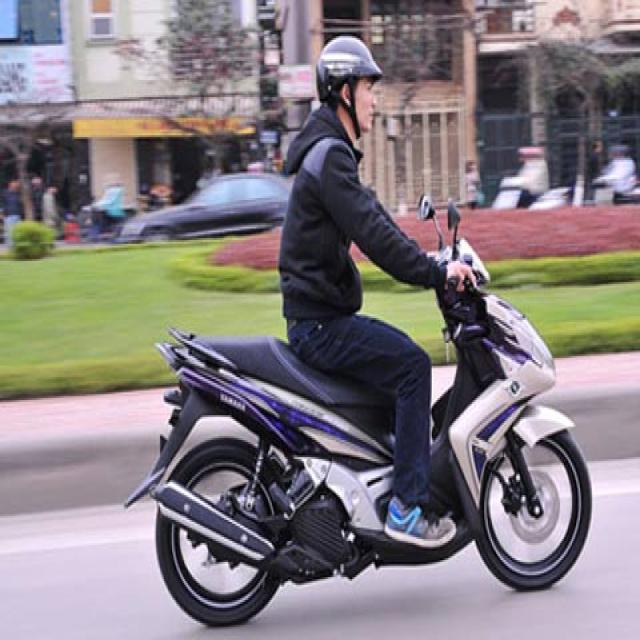helmet: (317, 37, 383, 103)
